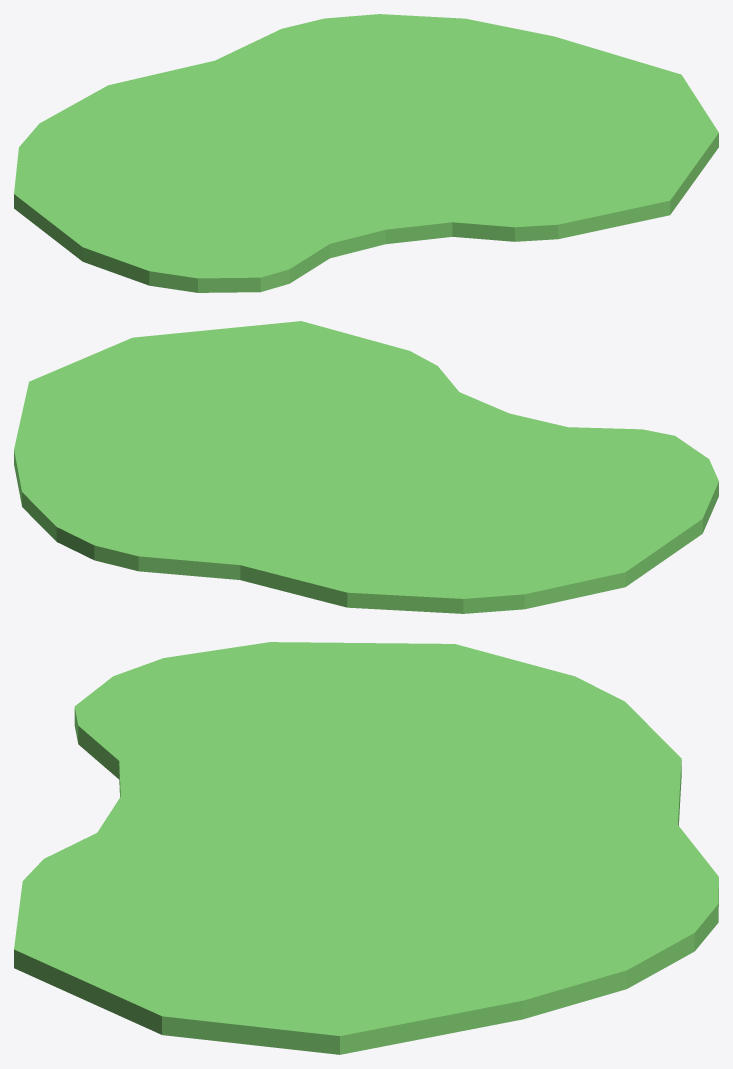
File: plattform_round.fbx
The picture shows the model from 3 angles, top to bottom: view 1: azimuth 30°, elevation 25°; view 2: azimuth 150°, elevation 25°; view 3: azimuth 270°, elevation 25°; orthographic projection. The views are drawn at different scales.
Visible parts, largest first — view 1: Circle.003; view 2: Circle.003; view 3: Circle.003.
Part boxes in pixels (x1,y1,x2,y2): Circle.003: (14, 14, 718, 292); Circle.003: (14, 321, 718, 613); Circle.003: (14, 642, 718, 1054).
Size of the model in its own units: 1149 by 25.49 by 868.
